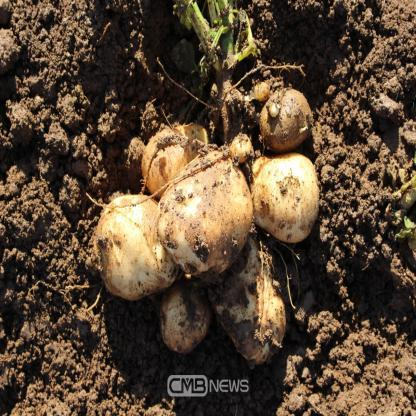potato: (158, 130, 253, 287), (92, 178, 190, 293), (219, 238, 292, 373), (238, 143, 326, 252), (258, 79, 319, 152)
